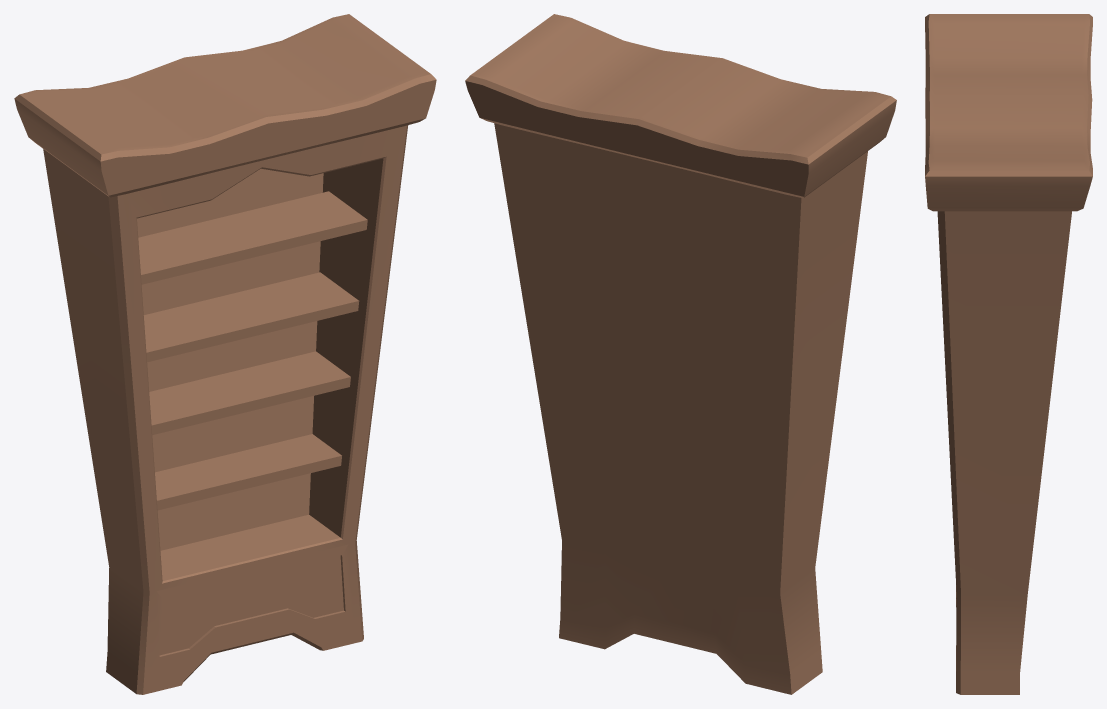
The model's file is Sm_Armoire_03.fbx.
3 renders of one model, left to right at view 1: azimuth 30°, elevation 25°; view 2: azimuth 150°, elevation 25°; view 3: azimuth 270°, elevation 25°, orthographic. The views are drawn at different scales.
Parts seen in each view (by area): view 1: SM_Armoire_03; view 2: SM_Armoire_03; view 3: SM_Armoire_03.
Boxes of the visible parts, box(x1,y1,x2,y2) form: SM_Armoire_03: box(14, 14, 436, 694); SM_Armoire_03: box(465, 14, 896, 694); SM_Armoire_03: box(925, 14, 1092, 694).
Bounding box in the file's own units: 2.73 × 4.38 × 1.21.
